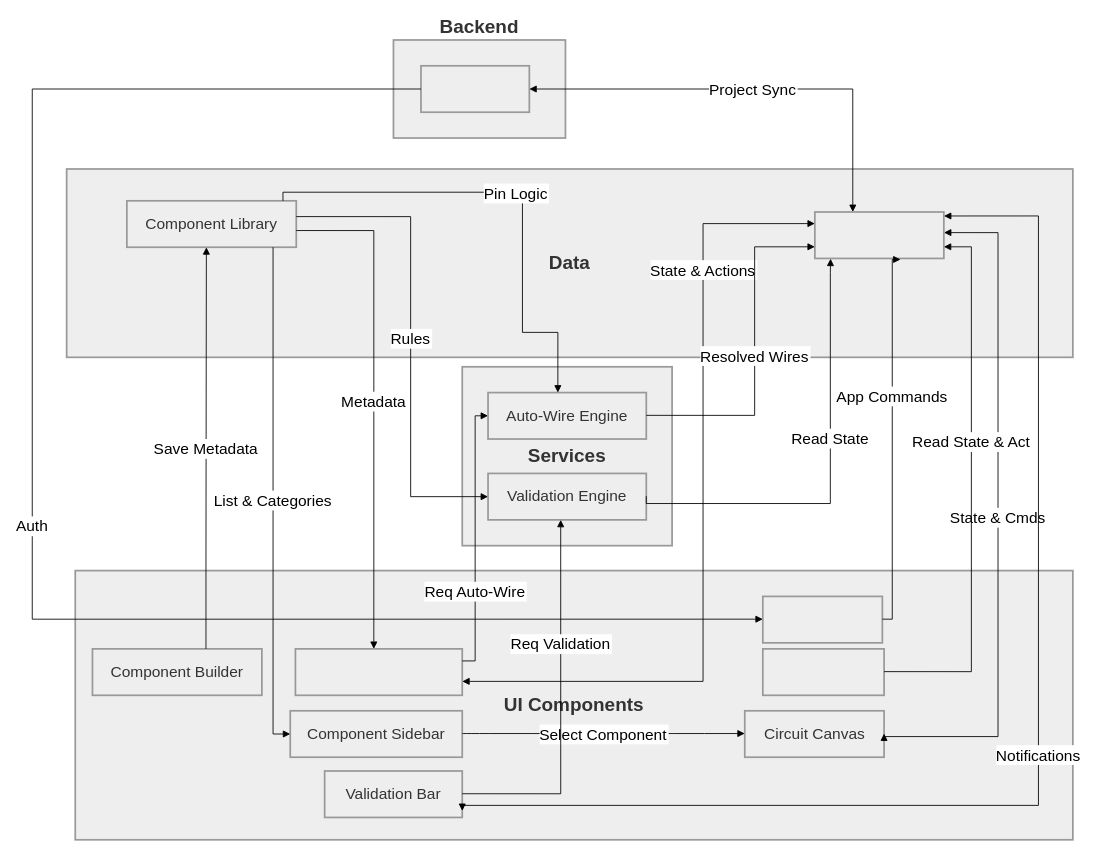
The diagram is 1096 pixels wide and 855 high, and some of its shapes have lost their labels. The centre of each missing label's shape, as x and y in pixels:
AI Assistant: pixel 823 672
Circuit App: pixel 822 619
Circuit Store: pixel 879 235
Placed Component: pixel 378 672
Supabase: pixel 475 88
